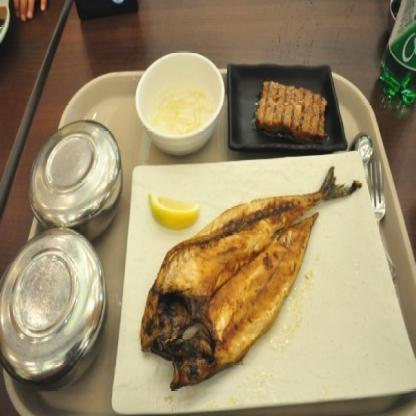Peixe: (132, 160, 360, 390)
